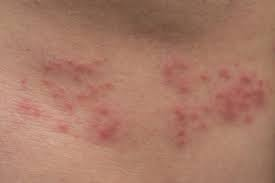herpes: (33, 49, 143, 148)
